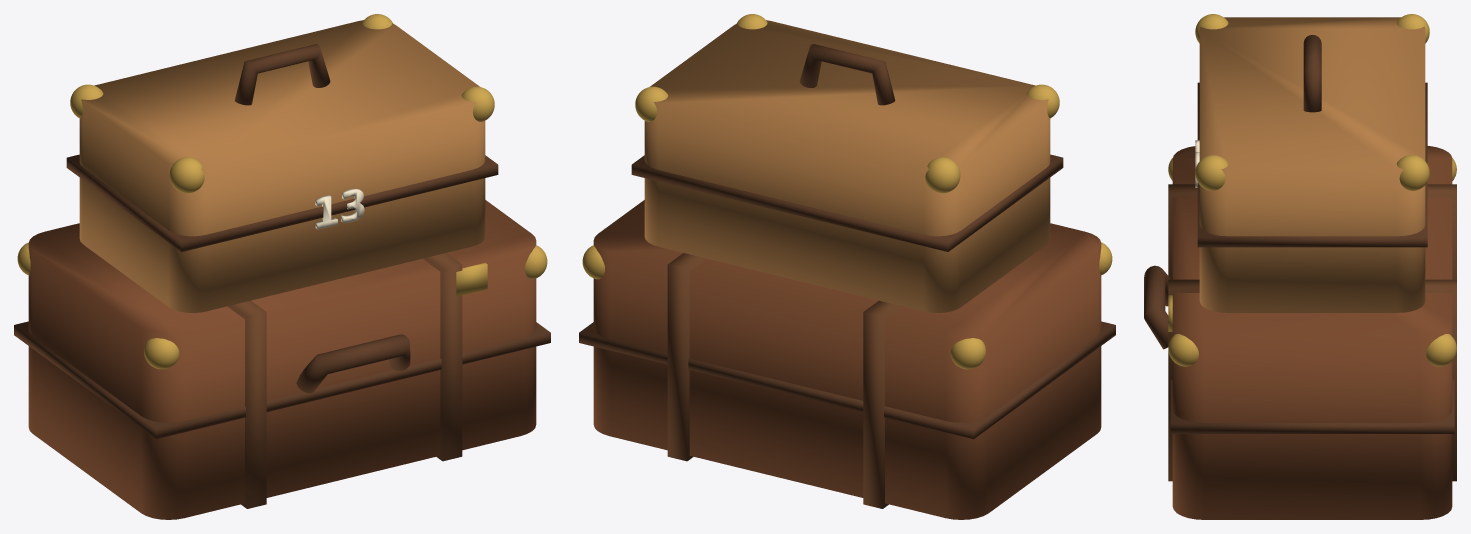
File: suitcase.glb
3 views of the same model, side by side, from view 1: azimuth 30°, elevation 25°; view 2: azimuth 150°, elevation 25°; view 3: azimuth 270°, elevation 25° (orthographic).
Parts seen in each view (by area): view 1: part0, part1, part2, part12, part3, part17; view 2: part0, part1, part2, part12, part3; view 3: part1, part0, part2, part3, part12.
Part boxes in pixels (left/top/right/bottom): part0: left=28, top=200, right=536, bottom=519; part1: left=79, top=20, right=485, bottom=312; part2: left=14, top=44, right=550, bottom=439; part12: left=227, top=253, right=462, bottom=508; part3: left=17, top=14, right=547, bottom=369; part17: left=315, top=188, right=364, bottom=229; part0: left=593, top=200, right=1101, bottom=519; part1: left=644, top=20, right=1050, bottom=312; part2: left=579, top=44, right=1115, bottom=439; part12: left=667, top=253, right=902, bottom=508; part3: left=582, top=14, right=1112, bottom=369; part1: left=1199, top=17, right=1425, bottom=312; part0: left=1172, top=146, right=1452, bottom=519; part2: left=1144, top=35, right=1454, bottom=433; part3: left=1168, top=14, right=1456, bottom=366; part12: left=1168, top=184, right=1456, bottom=481.
Bounding box in the file's own units: 1 × 0.9027 × 0.68.
